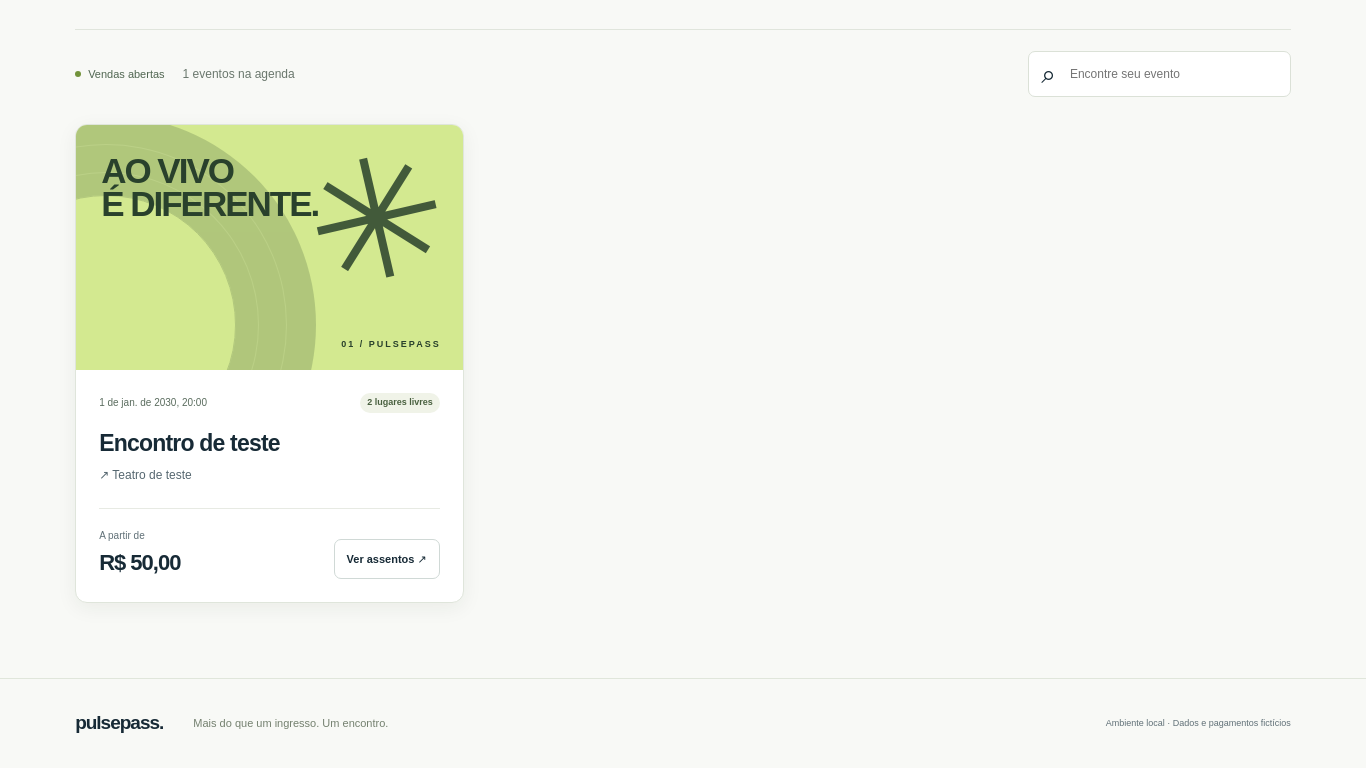
Scenario: real client journey controls › requires selection and sends multiple seats atomically before creating an order
(page scrolled)
Click the button "Ver assentos ↗".
click(387, 559)  # box x1=334 y1=539 x2=440 y2=579
(page scrolled)
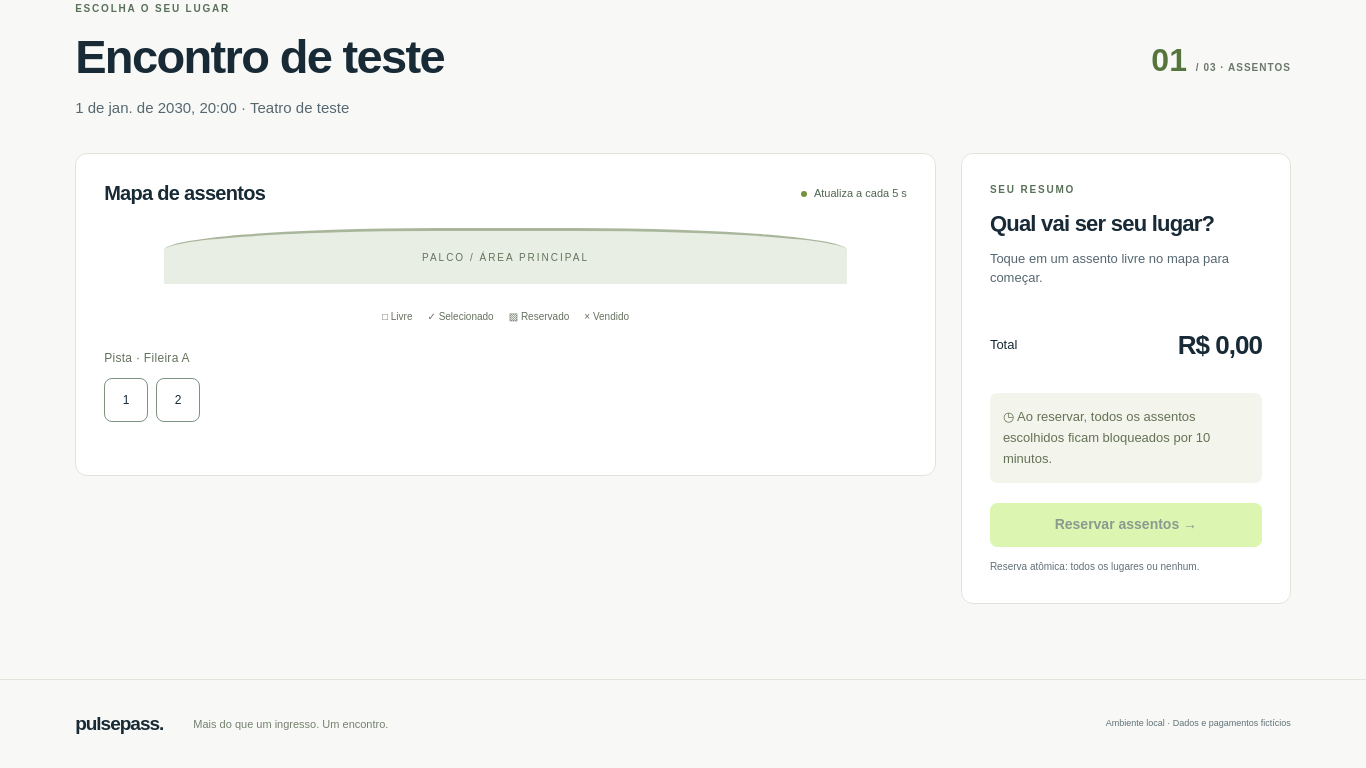
Expected: the button "Reservar assentos →" is disabled, x1=990 y1=503 x2=1262 y2=547
Click the button named "assento 1, Livre".
click(126, 400)  # box x1=104 y1=378 x2=148 y2=422
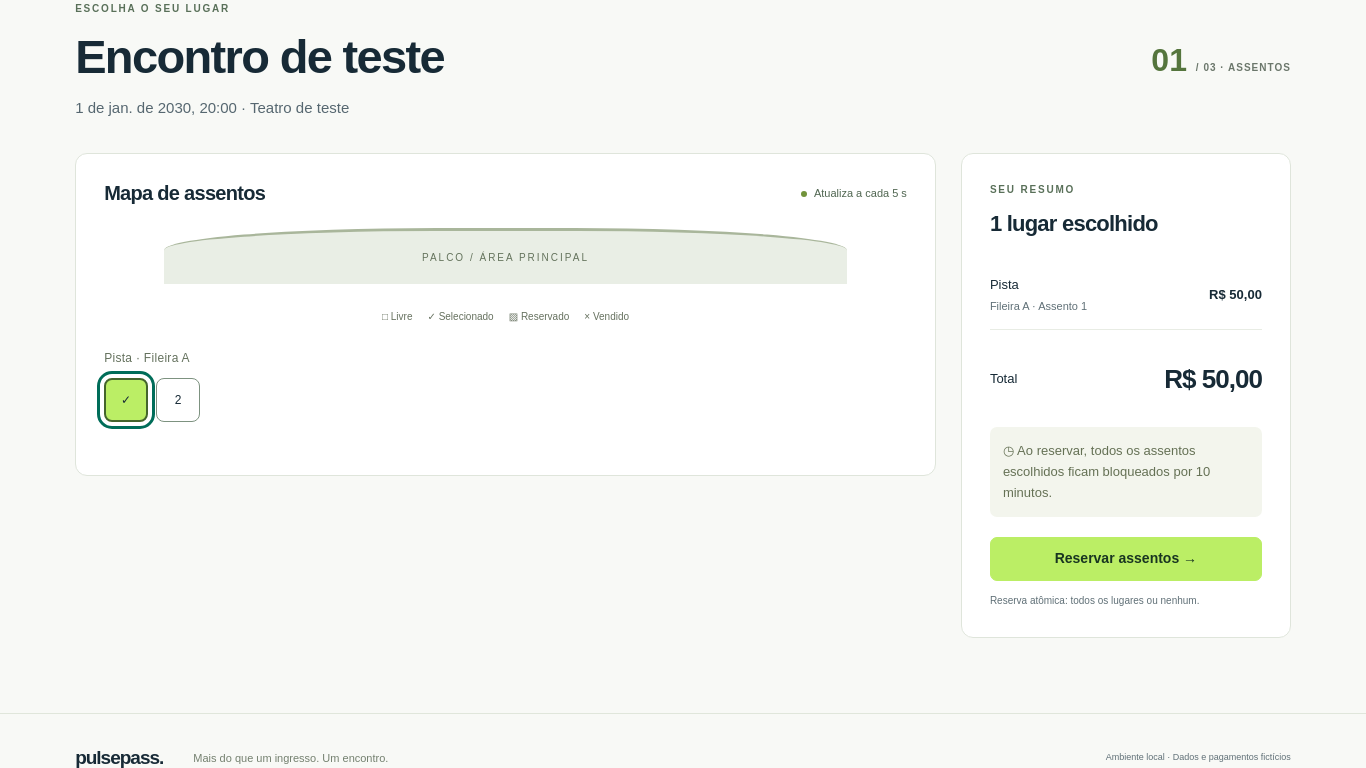
Click the button named "assento 2, Livre".
click(178, 400)  # box x1=156 y1=378 x2=200 y2=422
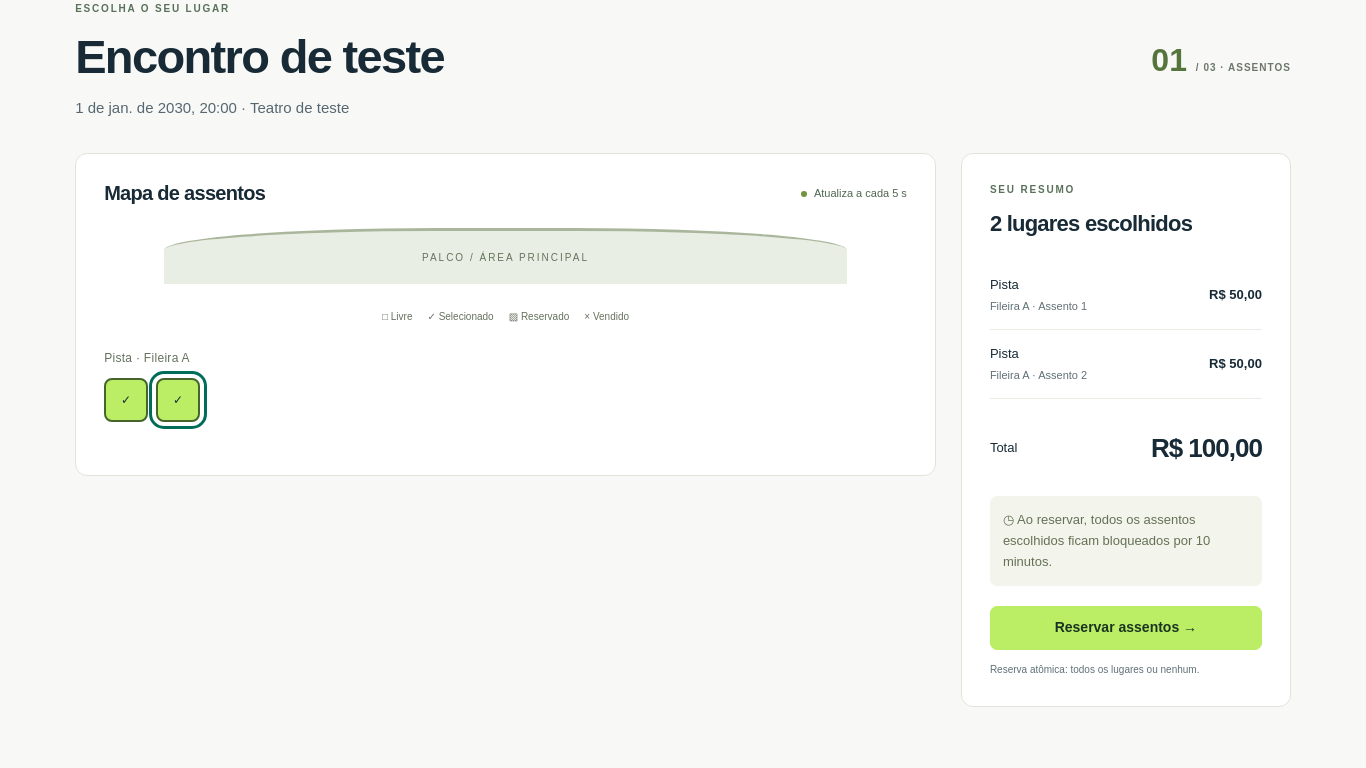
Click the button "Reservar assentos →".
click(1126, 628)  # box x1=990 y1=606 x2=1262 y2=650
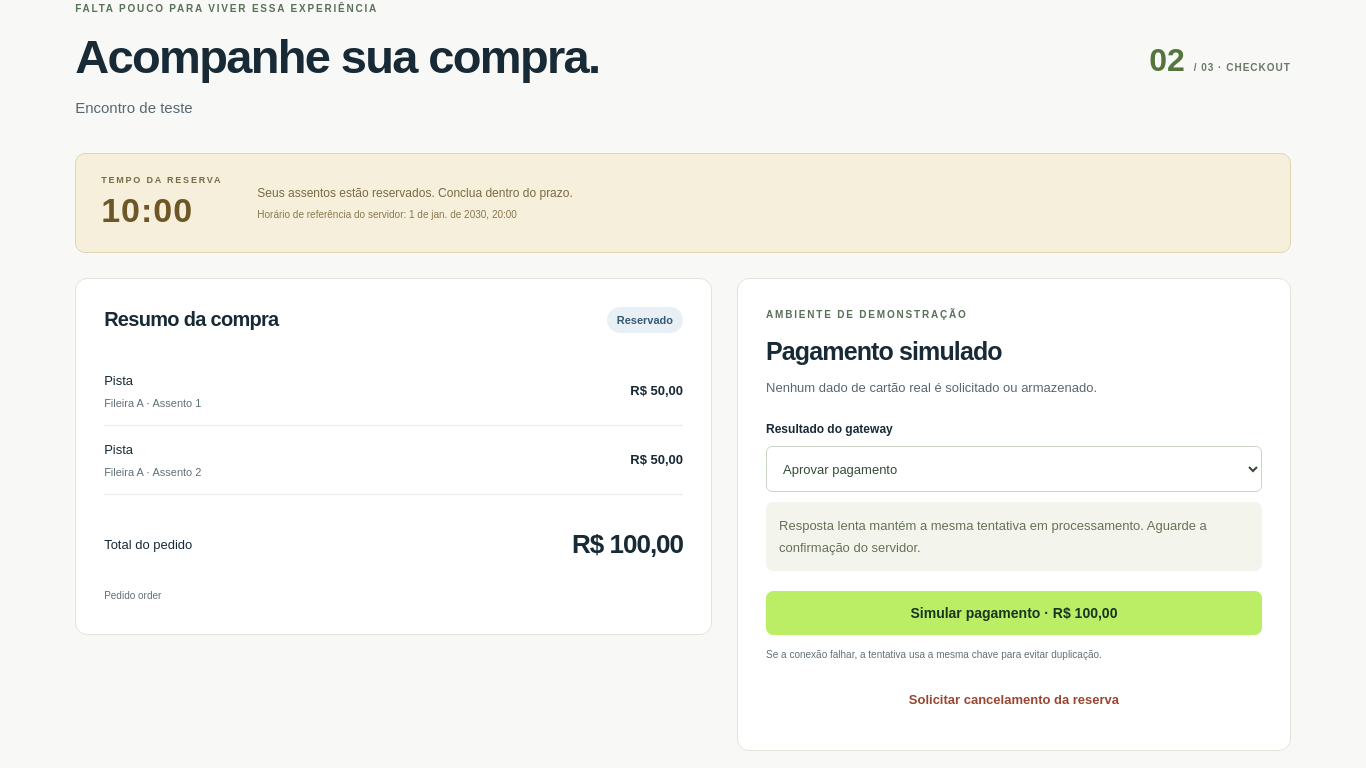
Expected: the heading "Pagamento simulado" is shown, x1=766 y1=337 x2=1002 y2=365
Expected: the text "10:00" is shown, x1=101 y1=190 x2=193 y2=228
